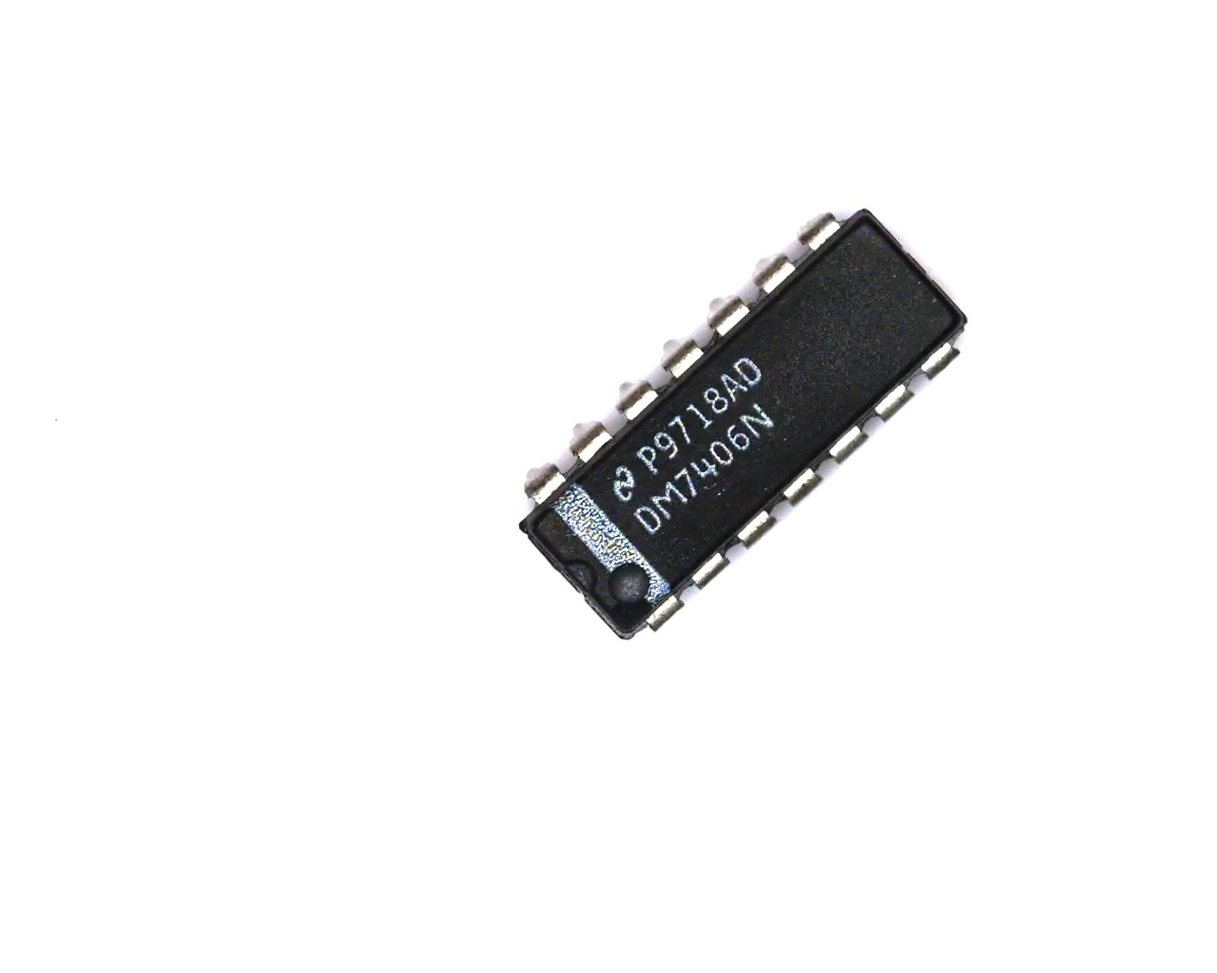IC: (479, 179, 1005, 672)
notch: (561, 551, 602, 599)
